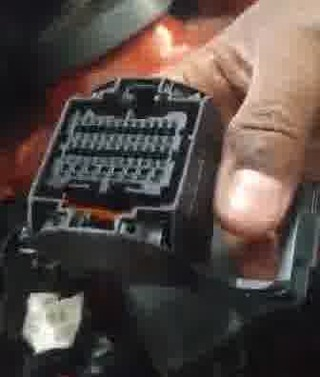connector: (26, 77, 223, 282)
